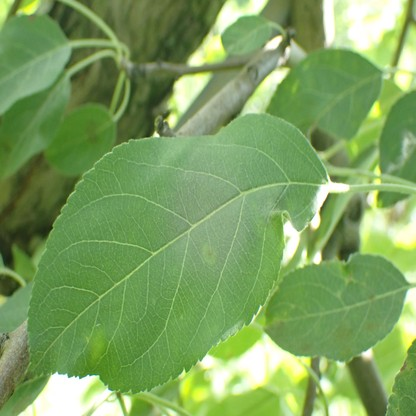scab: (88, 325, 105, 370), (332, 319, 354, 346), (82, 119, 99, 143), (268, 321, 289, 335), (364, 321, 379, 339), (204, 242, 216, 264), (401, 359, 414, 373), (300, 341, 313, 355), (368, 293, 375, 305)
